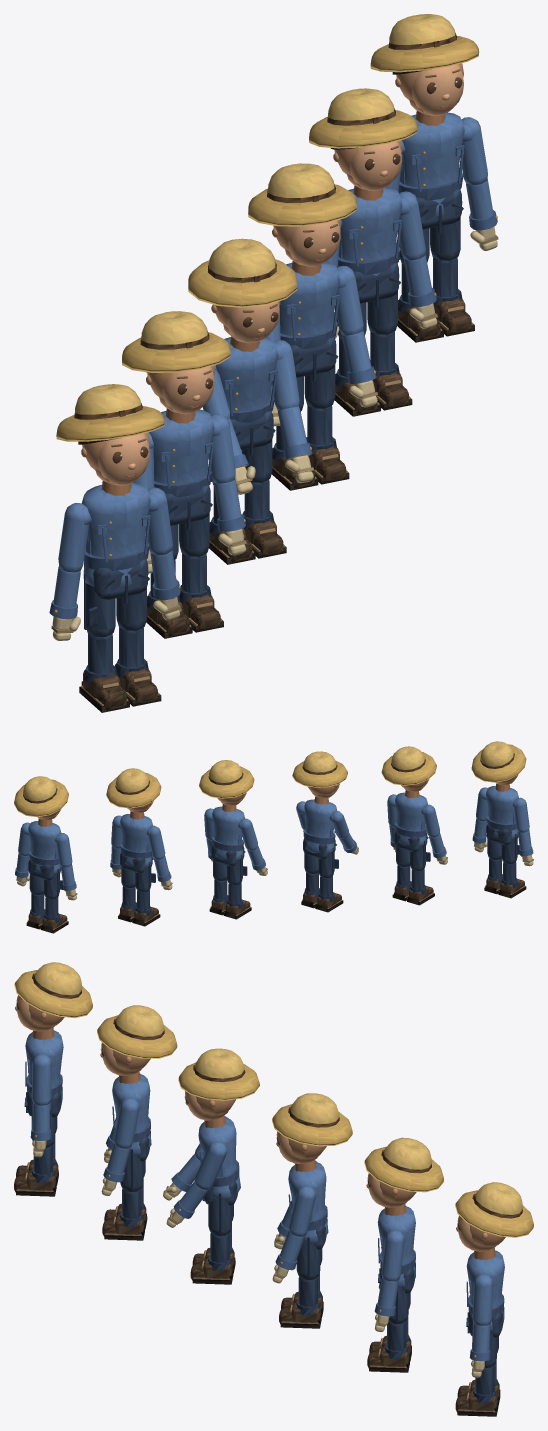
Rendered from ba-inspect-tq-after.glb.
3 views of the same model, one above another, from view 1: azimuth 30°, elevation 25°; view 2: azimuth 150°, elevation 25°; view 3: azimuth 270°, elevation 25° (orthographic). The views are drawn at different scales.
Parts seen in each view (by area): view 1: strawHat (×6), denimJacketTorso (×6), head (×6), leftShin (×6), leftUpperArm (×6), rightShin (×6), trouserHips (×6), leftLowerArm (×6), leftThigh (×6), rightUpperArm, rightThigh, rightLowerArm; view 2: strawHat (×6), denimJacketTorso (×6), rightShin (×6), leftShin (×6), rightUpperArm (×6), rightThigh (×6), trouserHips (×6), leftUpperArm (×5), rightLowerArm (×5), leftThigh (×6), leftLowerArm (×2), head; view 3: strawHat (×6), denimJacketTorso (×6), leftShin (×6), leftUpperArm (×6), head (×6), leftLowerArm (×6), leftThigh (×3), rightLowerArm.
Boxes of the visible parts, <box> form: strawHat (×6): <box>56,14,479,441</box>; denimJacketTorso (×6): <box>81,111,464,586</box>; head (×6): <box>78,63,463,485</box>; leftShin (×6): <box>114,257,474,706</box>; leftUpperArm (×6): <box>146,117,487,555</box>; rightShin (×6): <box>79,263,443,712</box>; trouserHips (×6): <box>84,189,463,603</box>; leftLowerArm (×6): <box>150,179,497,600</box>; leftThigh (×6): <box>116,217,460,630</box>; rightUpperArm: <box>58,503,91,572</box>; rightThigh: <box>84,574,115,636</box>; rightLowerArm: <box>49,566,80,619</box>; strawHat (×6): <box>14,741,526,817</box>; denimJacketTorso (×6): <box>28,784,518,873</box>; rightShin (×6): <box>40,862,526,933</box>; leftShin (×6): <box>26,858,502,929</box>; rightUpperArm (×6): <box>55,797,529,867</box>; rightThigh (×6): <box>44,833,519,899</box>; trouserHips (×6): <box>28,824,518,880</box>; leftUpperArm (×5): <box>18,787,488,856</box>; rightLowerArm (×5): <box>60,830,533,890</box>; leftThigh (×6): <box>29,839,501,895</box>; leftLowerArm (×2): <box>15,819,487,877</box>; head: <box>307,783,339,798</box>; strawHat (×6): <box>14,962,533,1237</box>; denimJacketTorso (×6): <box>25,1028,504,1330</box>; leftShin (×6): <box>14,1145,498,1416</box>; leftUpperArm (×6): <box>31,1054,493,1325</box>; head (×6): <box>15,995,505,1251</box>; leftLowerArm (×6): <box>30,1103,490,1361</box>; leftThigh (×3): <box>120,1149,320,1280</box>; rightLowerArm: <box>171,1154,200,1191</box>.
Size of what is drawn, in the model's own units: 6.19 by 2.42 by 5.14.
